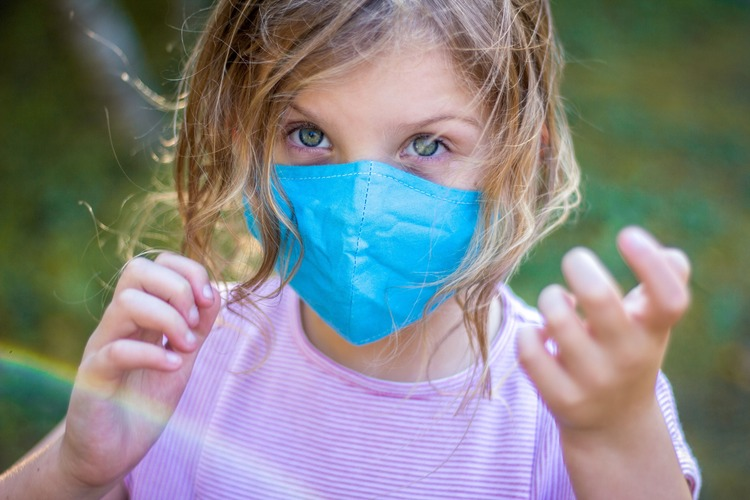with_mask: (254, 52, 487, 311)
